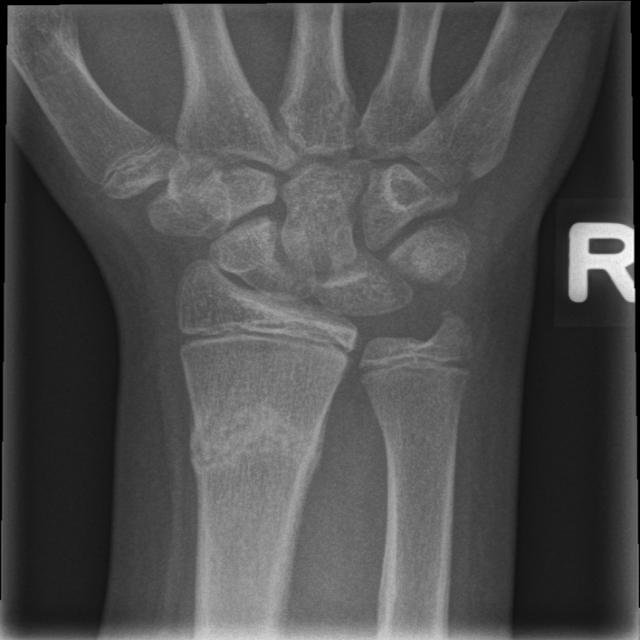radius fracture: (157, 378, 350, 560)
ulna fracture: (404, 300, 503, 446)
